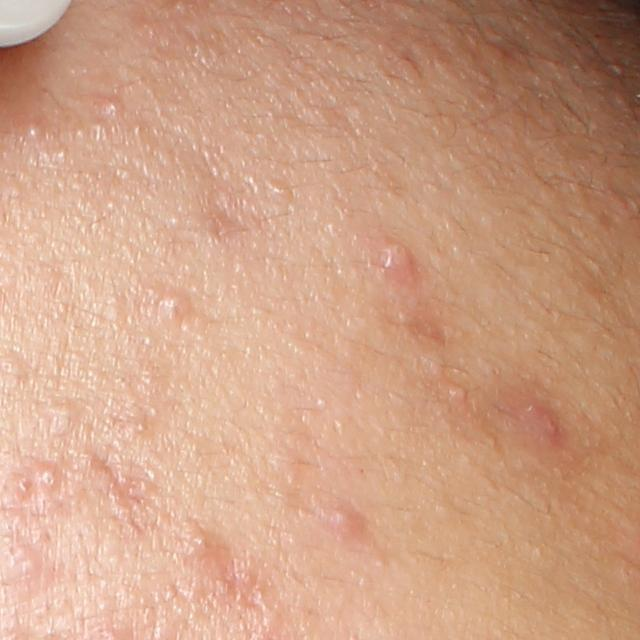comedo: (47, 399, 82, 437), (21, 120, 45, 145), (103, 96, 126, 116), (267, 176, 290, 196), (132, 419, 152, 437), (446, 385, 468, 401)
papule: (371, 233, 419, 282), (519, 398, 565, 442), (182, 523, 229, 566), (324, 502, 370, 540)
